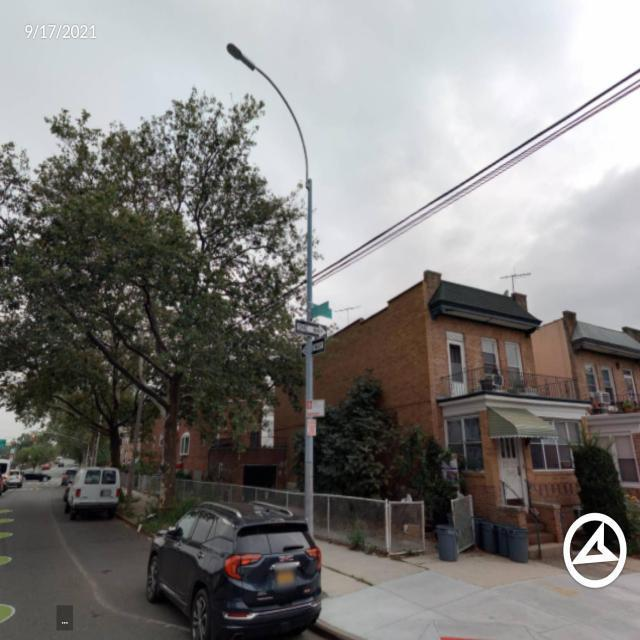off: (188, 8, 350, 248)
